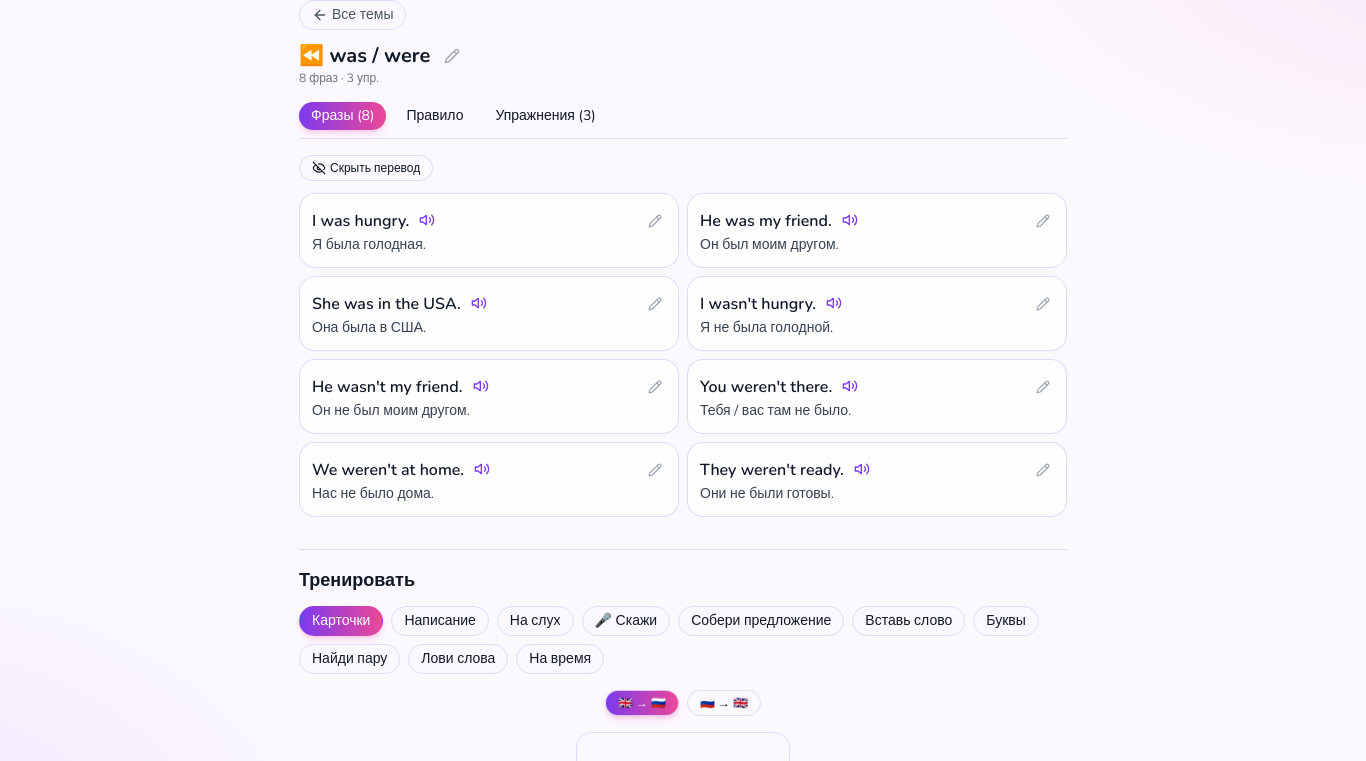
Scenario: TopicPage › shows the book exercises of a grammar topic
The image size is (1366, 761).
Click the tab "Упражнения (3)": [546, 116] box [484, 102, 608, 130]
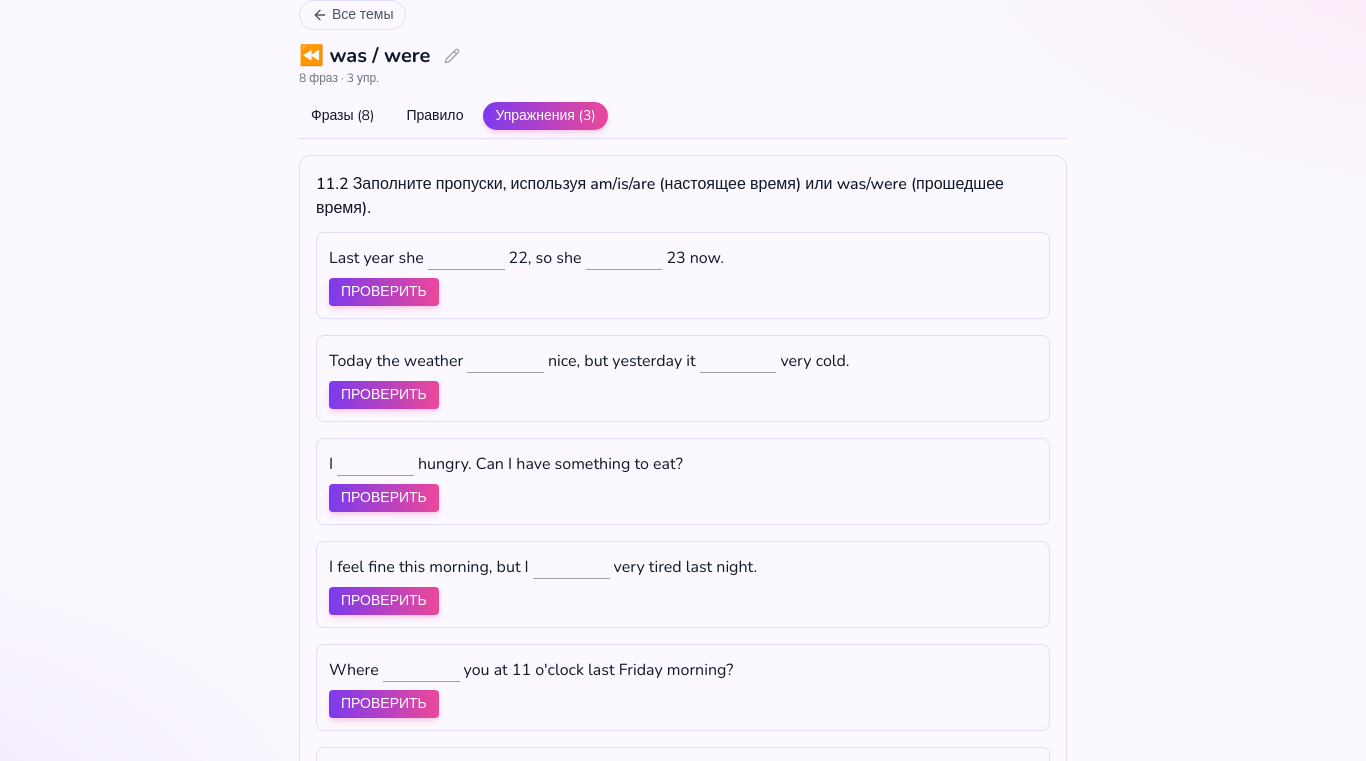
Expected: the text "11.2 Заполните пропуски" is shown, [316, 173, 1004, 219]
